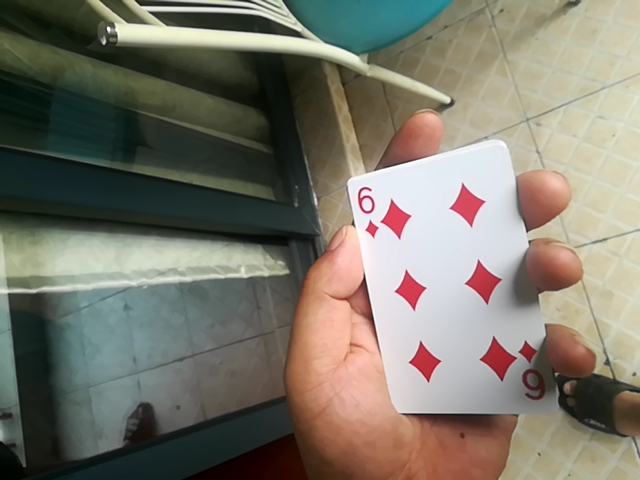fk 6: (354, 141, 545, 423)
